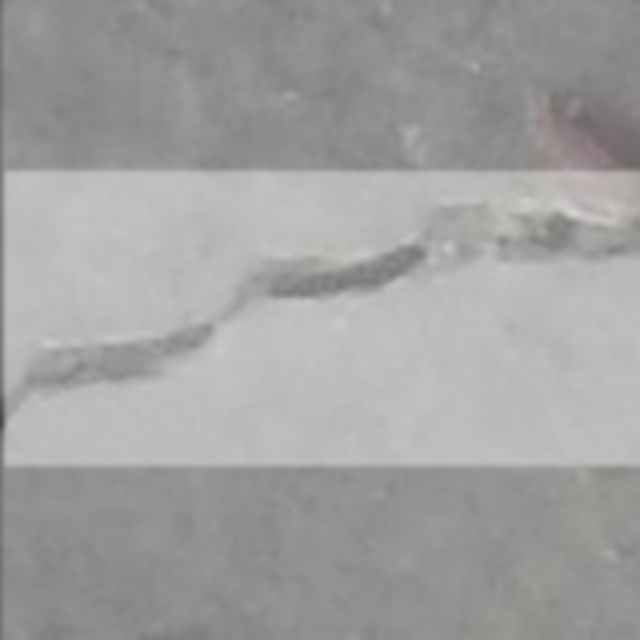SurfaceCrack: (0, 180, 622, 436)
